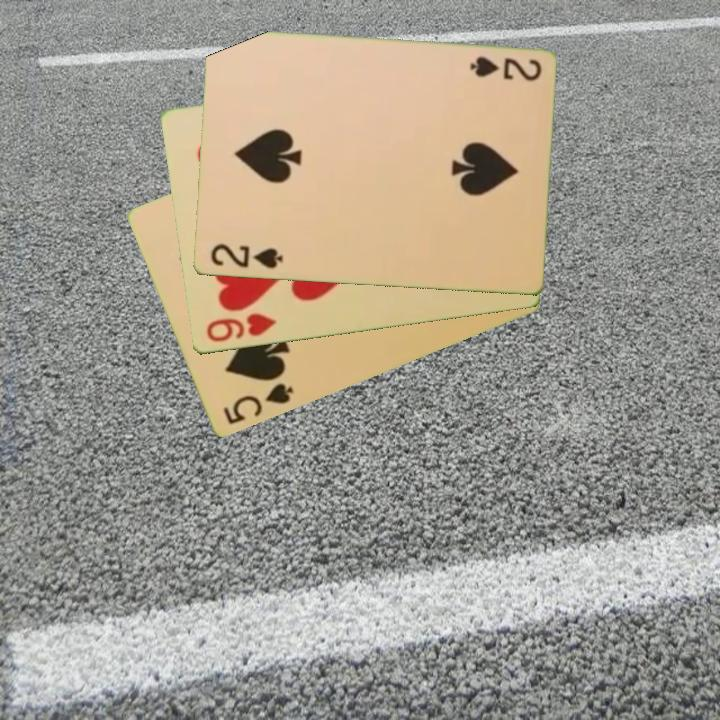2s: (466, 53, 544, 85), (207, 241, 286, 272)
5s: (219, 380, 296, 429)
9h: (202, 310, 279, 346)
